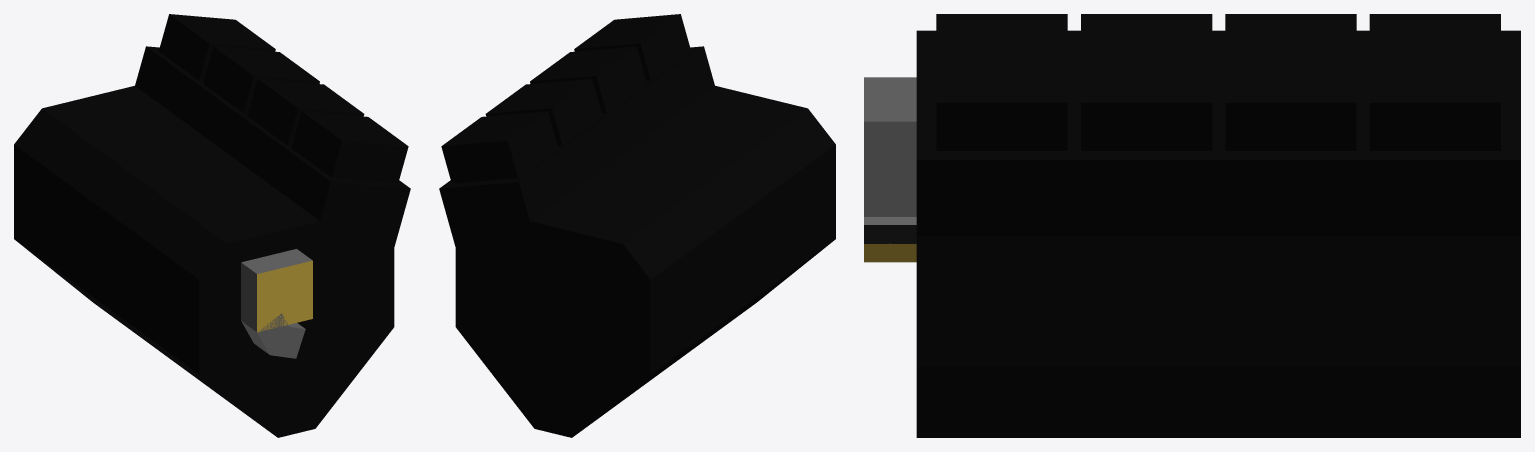
The model's file is v4performanteturbo.obj.
3 views of the same model, side by side, from view 1: azimuth 30°, elevation 25°; view 2: azimuth 150°, elevation 25°; view 3: azimuth 270°, elevation 25° (orthographic). The views are drawn at different scales.
Parts seen in each view (by area): view 1: cube, turbo; view 2: cube; view 3: cube, turbo.
Part boxes in pixels (left/top/right/bottom): cube: left=14, top=14, right=410, bottom=437; turbo: left=241, top=249, right=312, bottom=358; cube: left=439, top=14, right=835, bottom=437; cube: left=916, top=14, right=1520, bottom=437; turbo: left=864, top=77, right=916, bottom=262.
Size of the model in its own units: 0.462 by 0.565 by 0.7471.
